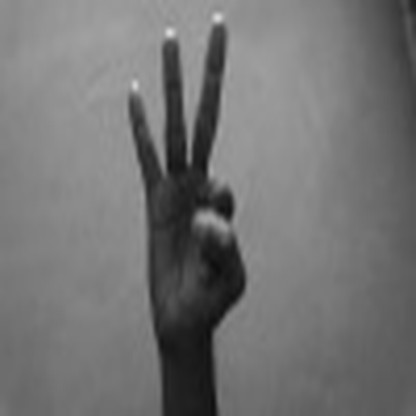f: (108, 8, 258, 334)
